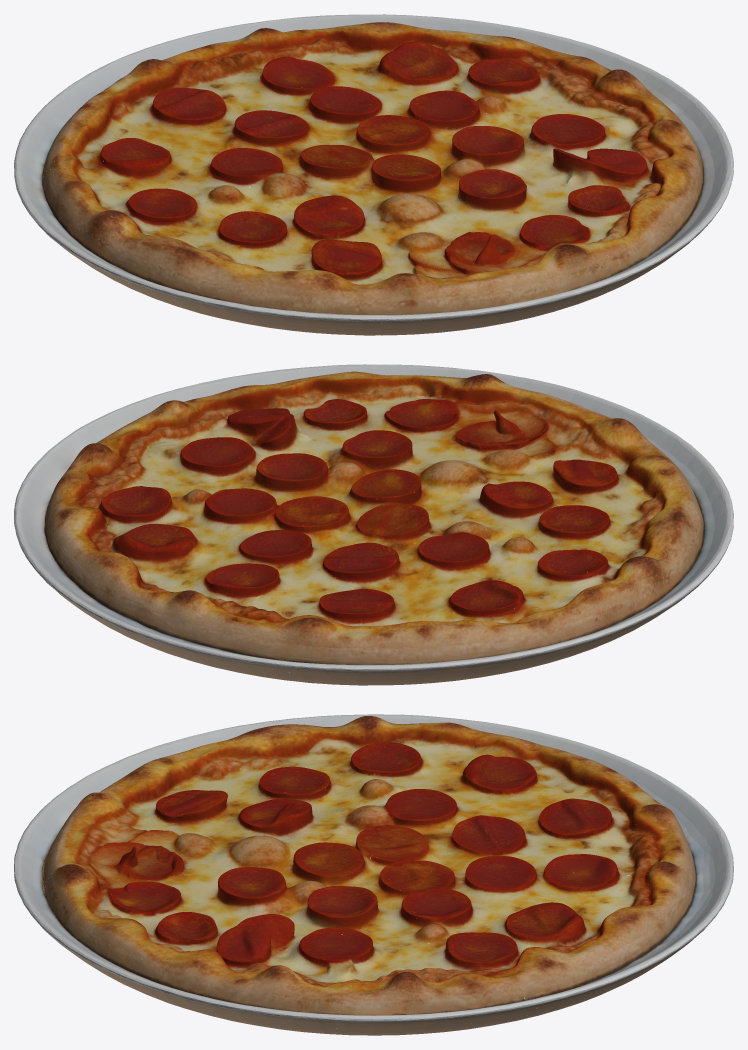
The model's file is pizzapipirouni (1).glb.
The picture shows the model from 3 angles, top to bottom: view 1: azimuth 30°, elevation 25°; view 2: azimuth 150°, elevation 25°; view 3: azimuth 270°, elevation 25°; orthographic projection.
Parts seen in each view (by area): view 1: tripo_node_71019911-2150-4396-ae6f-ba1bd2f4211e; view 2: tripo_node_71019911-2150-4396-ae6f-ba1bd2f4211e; view 3: tripo_node_71019911-2150-4396-ae6f-ba1bd2f4211e.
Part boxes in pixels (box(x1,y1,x2,y2)): tripo_node_71019911-2150-4396-ae6f-ba1bd2f4211e: box(14, 14, 733, 335); tripo_node_71019911-2150-4396-ae6f-ba1bd2f4211e: box(14, 364, 733, 685); tripo_node_71019911-2150-4396-ae6f-ba1bd2f4211e: box(14, 714, 733, 1035).
Size of the model in its own units: 0.9997 by 0.1092 by 0.9995.
1 material, 1 textured.
